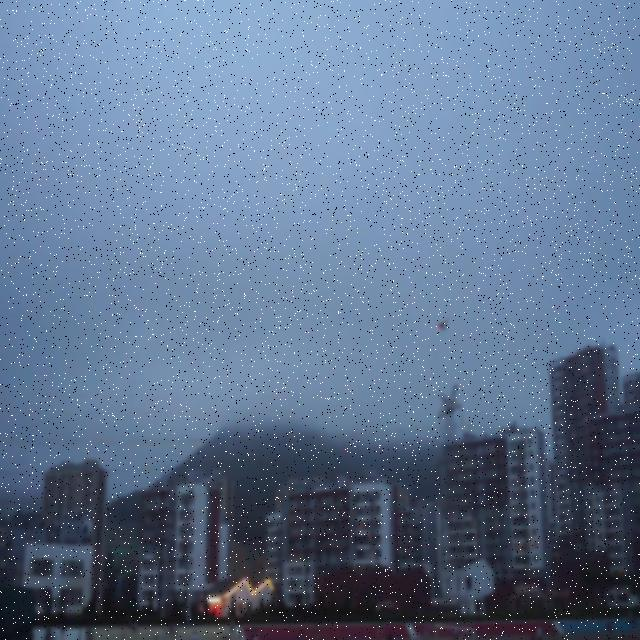UAV: (436, 320, 448, 332)
